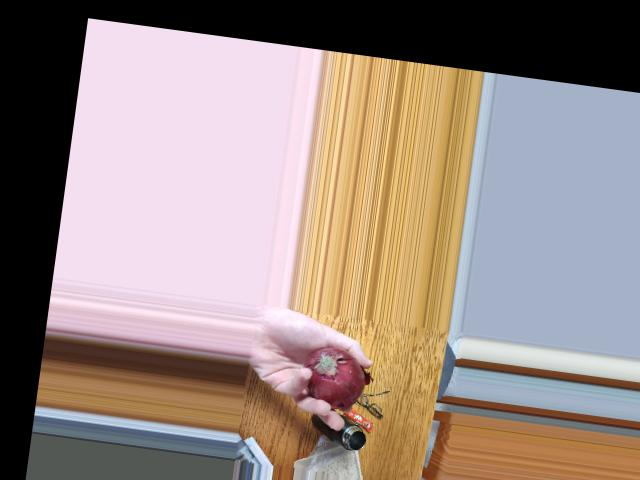onion: (300, 344, 363, 406)
